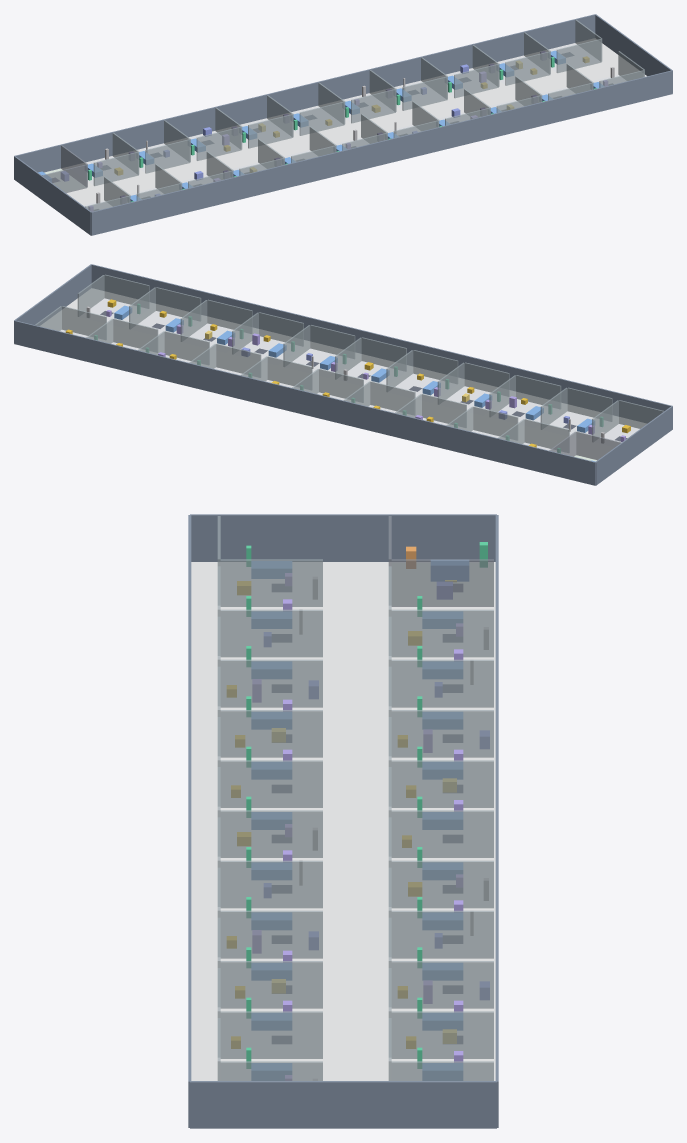
The model's file is bld_mrgtwe8t_bd7izxj.glb.
3 renders of one model, top to bottom at view 1: azimuth 30°, elevation 25°; view 2: azimuth 150°, elevation 25°; view 3: azimuth 270°, elevation 25°, orthographic. The views are drawn at different scales.
Visible parts, largest first — view 1: exported-buildings; view 2: exported-buildings; view 3: exported-buildings.
Boxes of the visible parts, x1,y1,x2,y2 form: exported-buildings: (14,14,672,235); exported-buildings: (14,264,672,485); exported-buildings: (188,514,498,1128).
Size of the model in its own units: 65.65 by 2.51 by 15.15.
